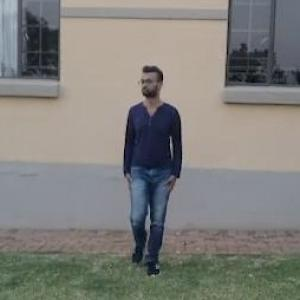follow: (112, 50, 190, 298)
